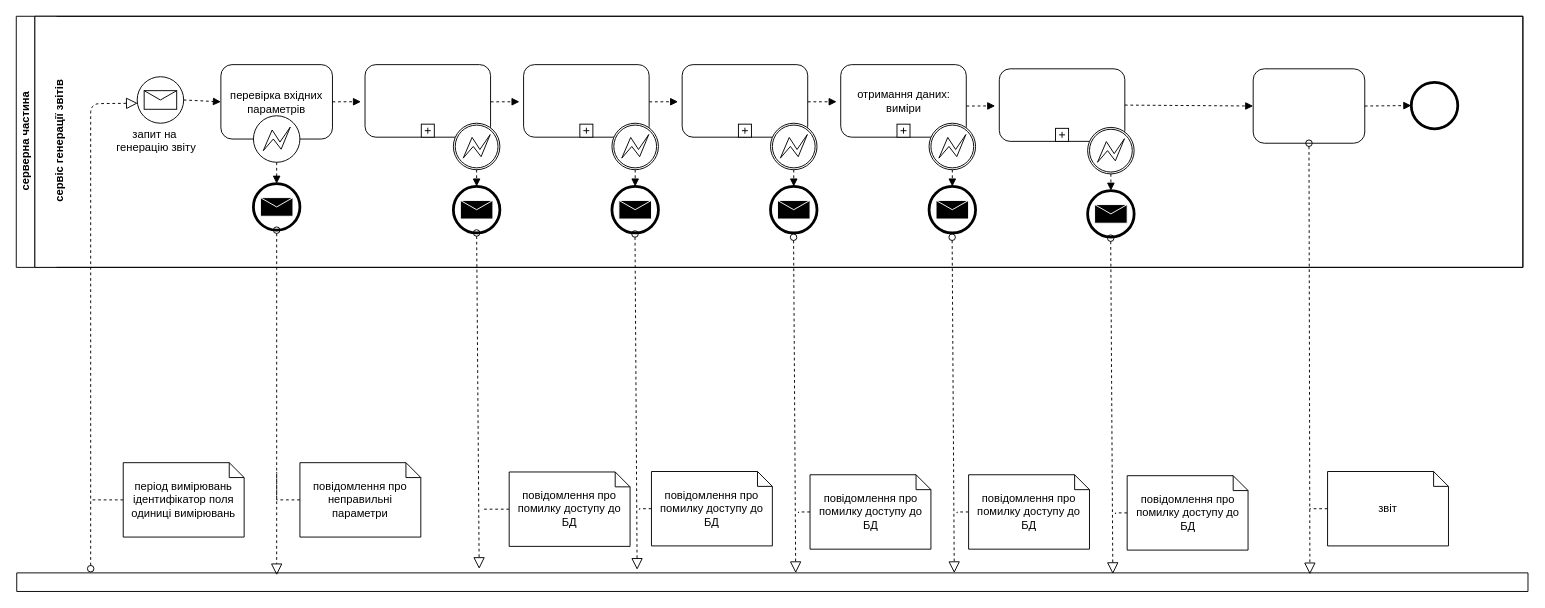
The diagram is 1545 pixels wide and 608 high, and some of its shapes have lost their labels. Each missing label, with the centre of its shape:
клієнт: the point at 772,581
отримання даних: компанія: the point at 586,100
отримання даних: користувачі: the point at 1061,104
отримання даних: поля: the point at 427,100
отримання даних: пристрої: the point at 744,100
сформувати звіт: the point at 1308,105
